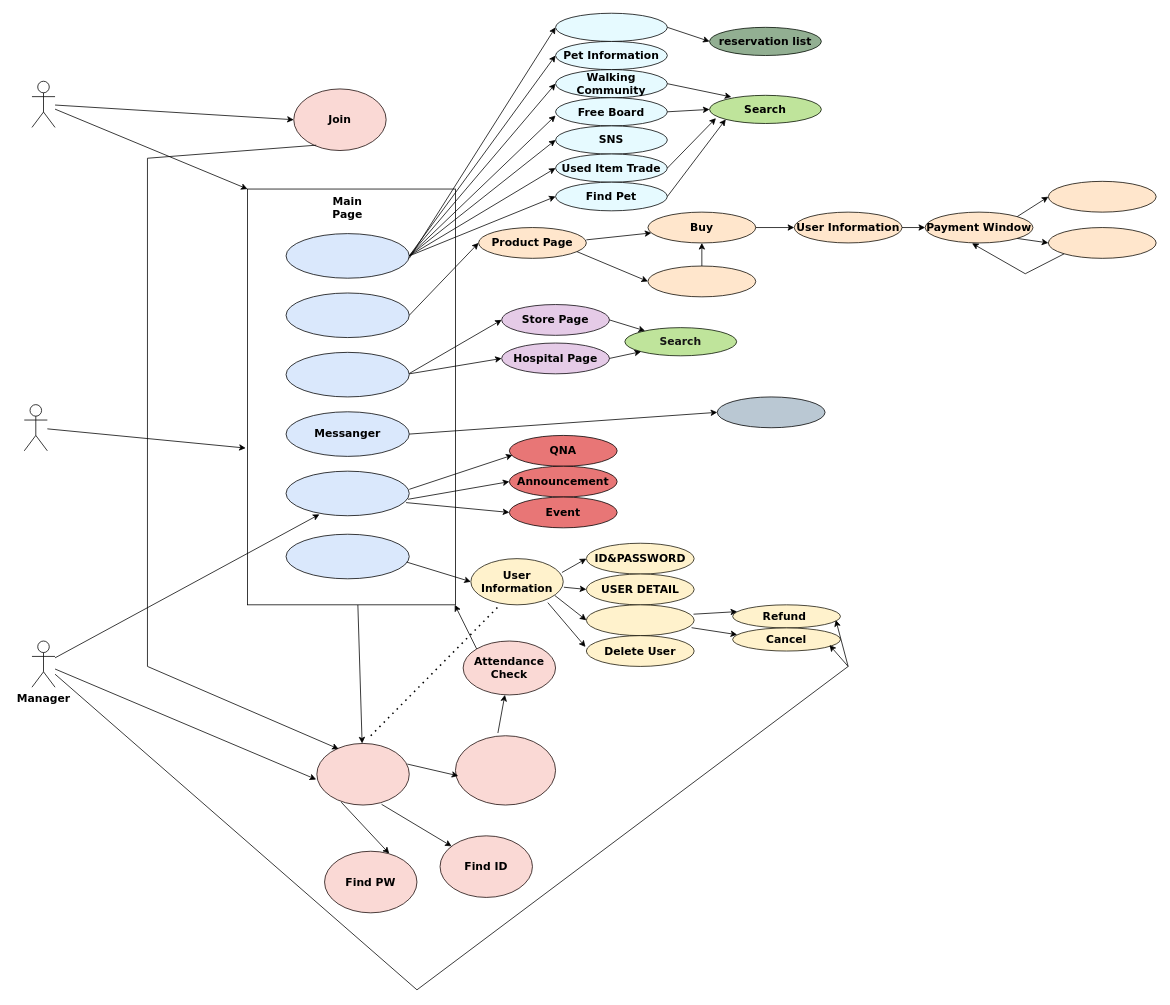
Some shapes in this 1170 by 1005 pixel diagram are drawn without their labels. Here are the shapes that lost their labels. From the top down, the centre of each, then its label:
point (611, 26): Walking reservation
point (43, 103): Non- User
point (1102, 196): Buy Complete
point (347, 255): Community
point (1102, 242): Buy Failed
point (701, 281): Shopping Basket
point (347, 315): Shopping mall
point (347, 374): Pet-Accompaning store / hospital
point (35, 427): User
point (770, 412): Messanger Page
point (347, 493): Notice
point (347, 556): MyPage
point (640, 620): BUY LIST
point (362, 774): Log-in
point (505, 770): User Authentication
